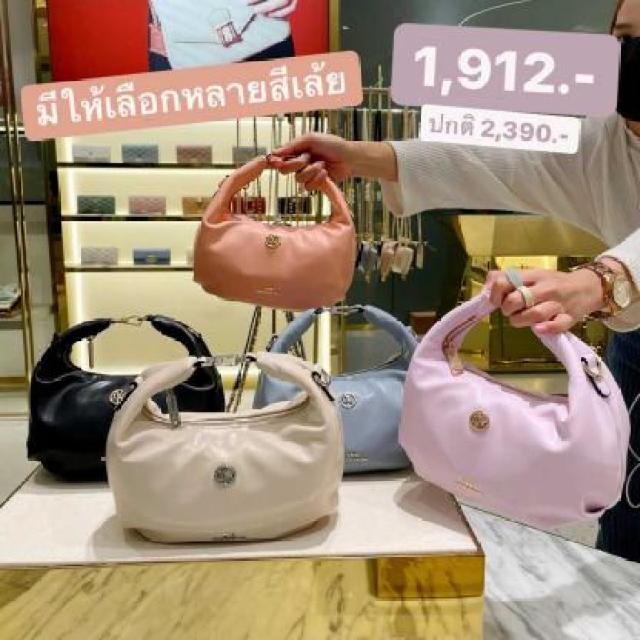Bag: (389, 219, 640, 544), (98, 323, 351, 562), (140, 121, 372, 328)
